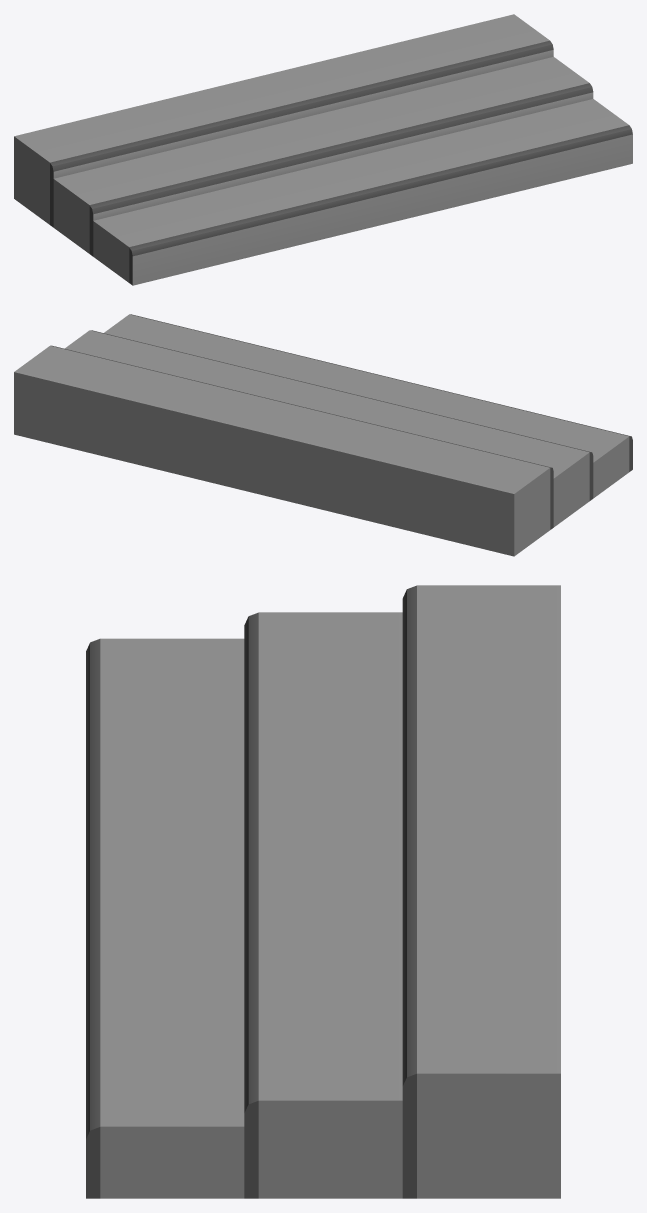
The model's file is Stand.fbx.
3 views of the same model, one above another, from view 1: azimuth 30°, elevation 25°; view 2: azimuth 150°, elevation 25°; view 3: azimuth 270°, elevation 25° (orthographic). The views are drawn at different scales.
Parts seen in each view (by area): view 1: pCube49; view 2: pCube49; view 3: pCube49.
Part boxes in pixels (x1,y1,x2,y2): pCube49: (14, 14, 632, 285); pCube49: (14, 314, 632, 556); pCube49: (86, 585, 560, 1198).
Size of the model in its own units: 14.59 by 1.74 by 6.
